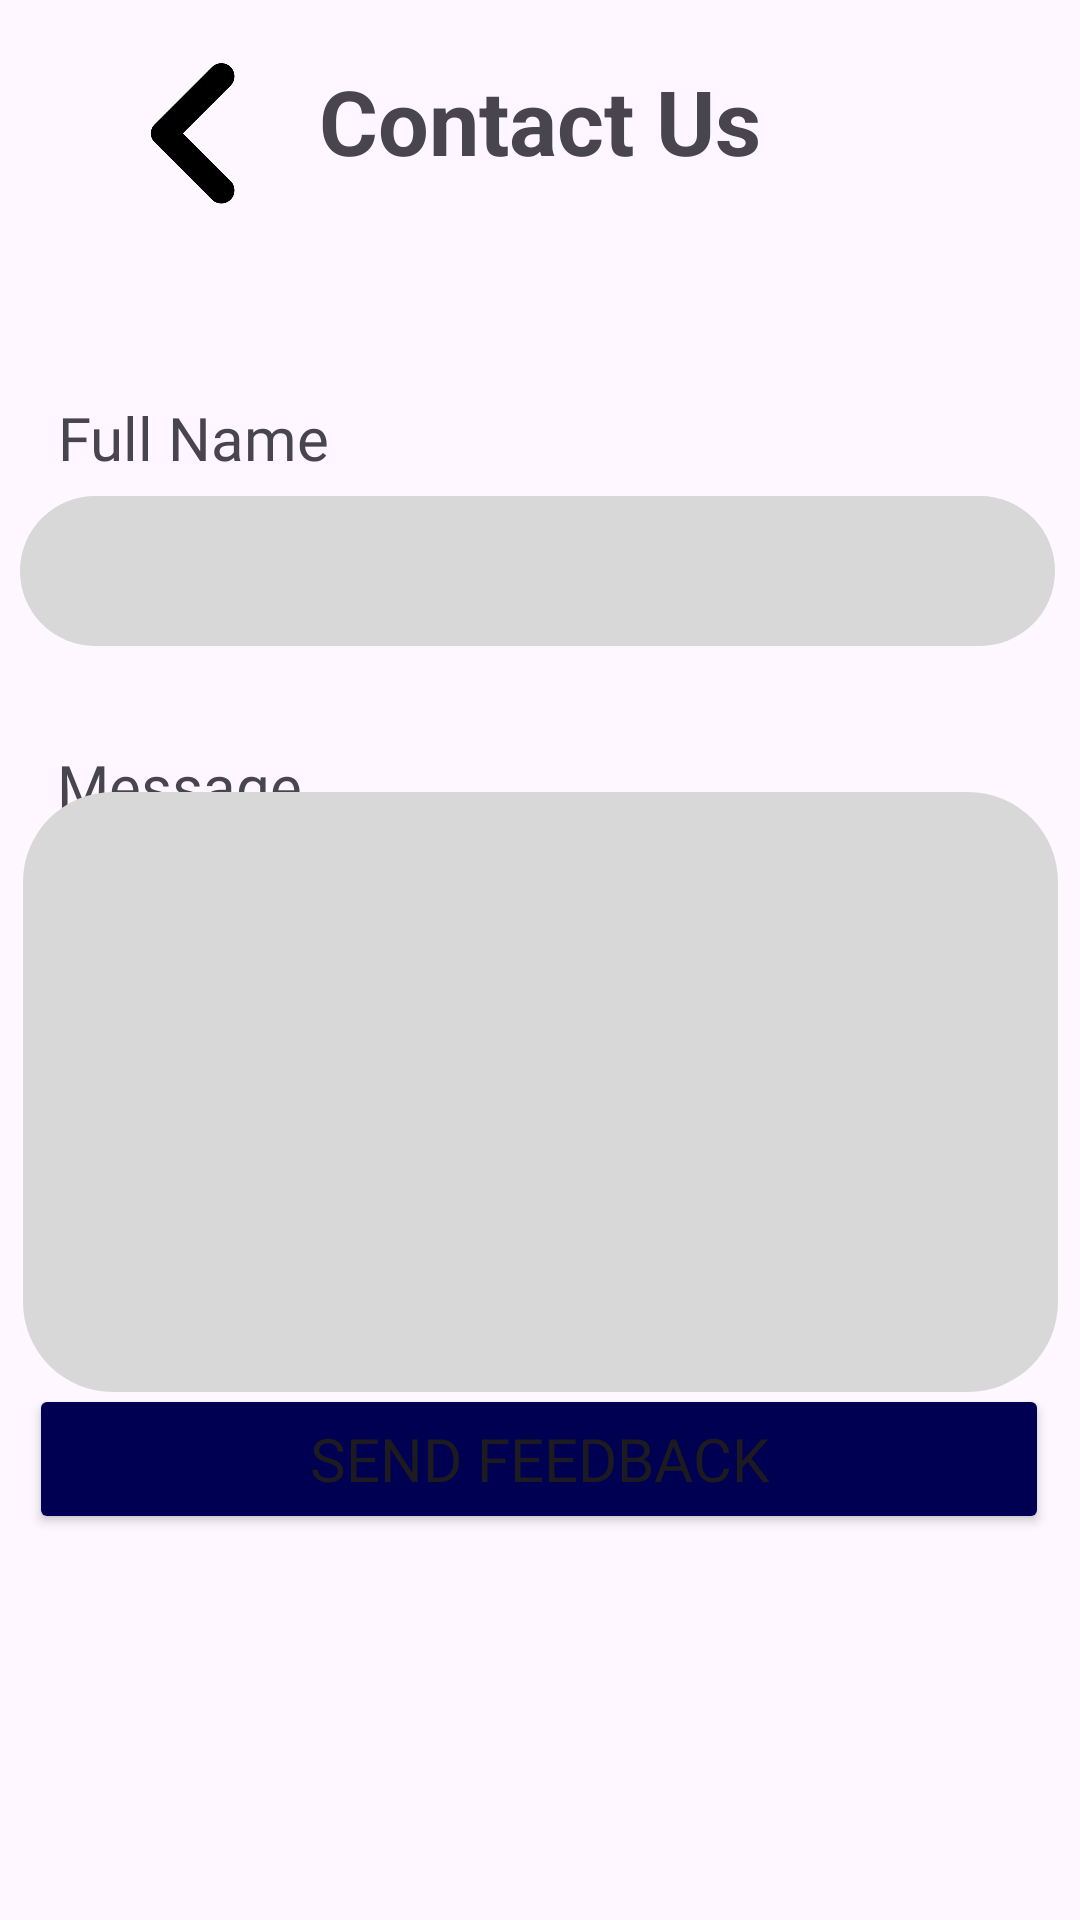

Named icons in this screenshot (1080×1920) and their bounding boxes, (x1,y1,x2,y2):
back: (151,63,235,204)
